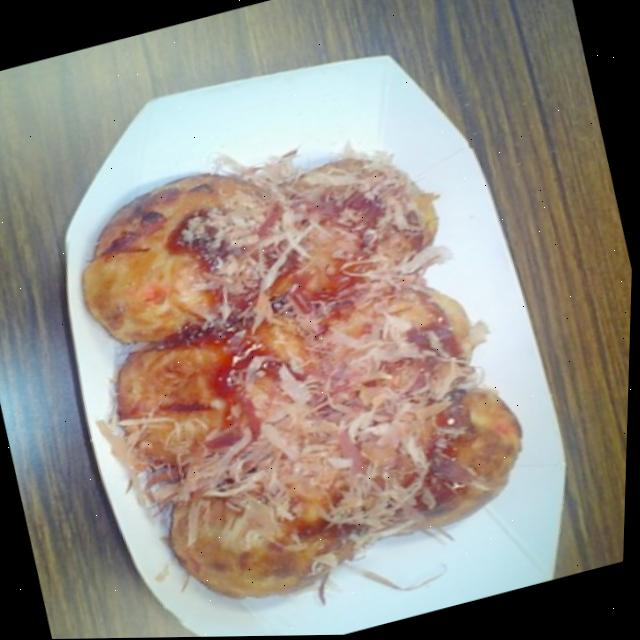炸货点心: (55, 98, 554, 639)
